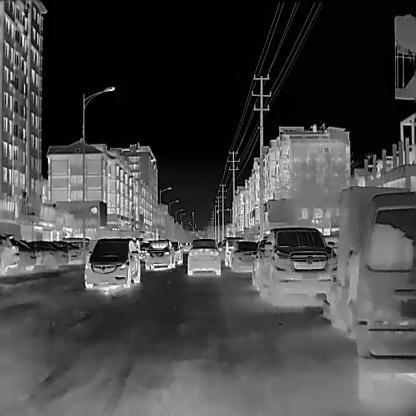car: (351, 190, 416, 371), (249, 228, 337, 303), (84, 236, 140, 289), (25, 242, 68, 271), (187, 239, 221, 274), (229, 240, 260, 274), (145, 238, 172, 269), (0, 234, 19, 274), (15, 239, 36, 270), (170, 240, 183, 264), (137, 240, 150, 258)
